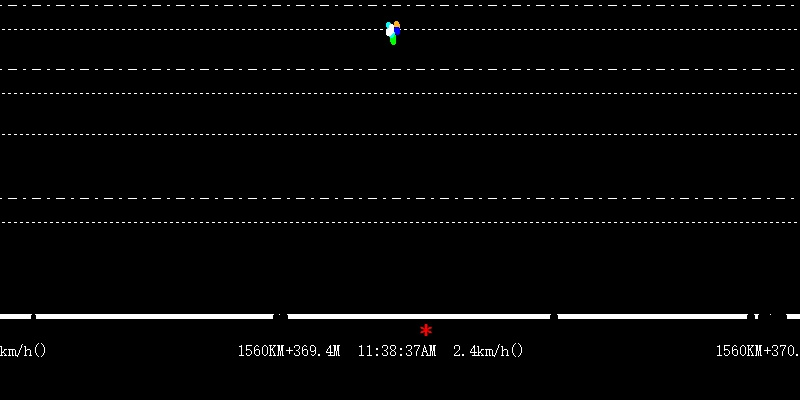face_2: (385, 17, 401, 45)
star: (417, 321, 433, 338)
